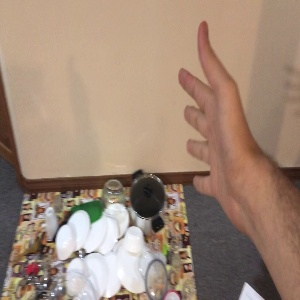hand: (179, 21, 255, 224)
